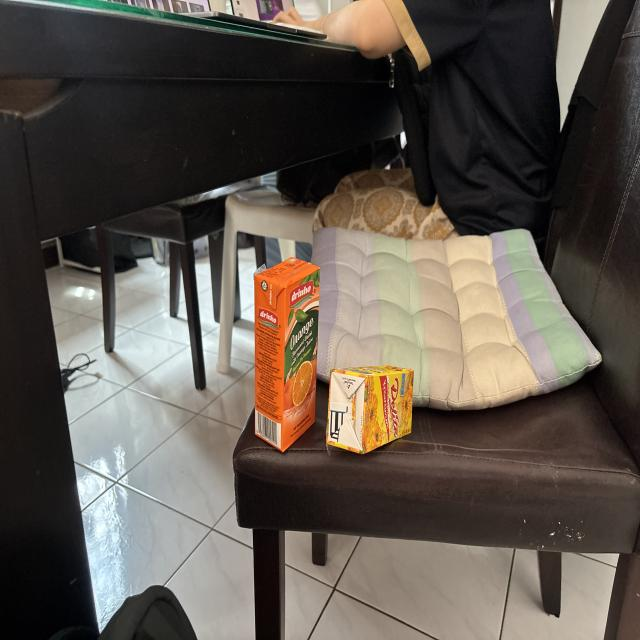drink_carton: (248, 251, 324, 458), (322, 354, 418, 458)
